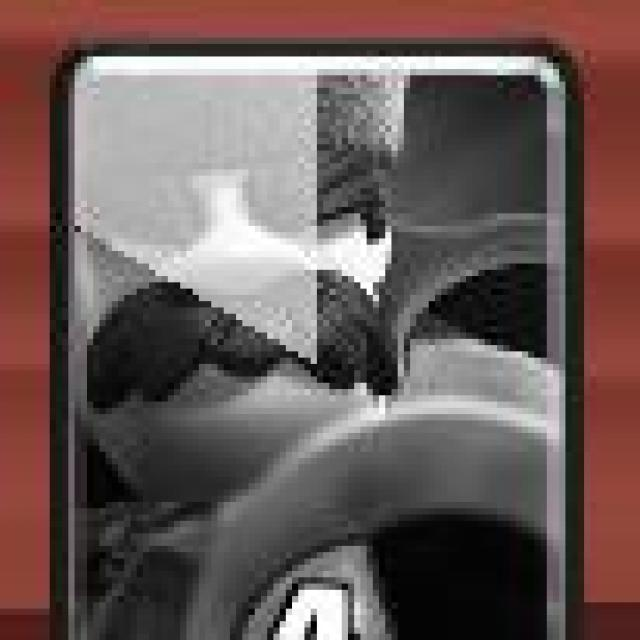Hunter: (54, 42, 572, 640)
